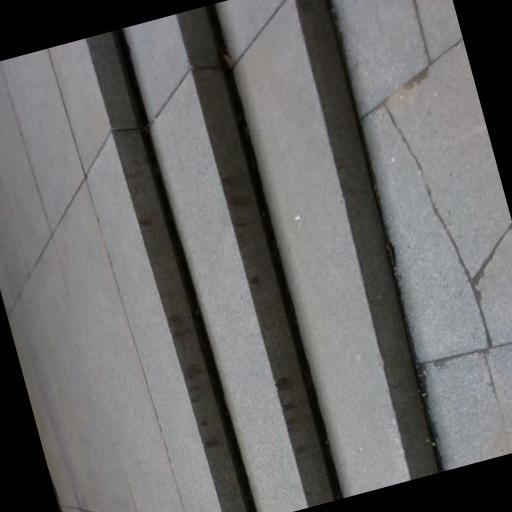stairs: (122, 0, 437, 511)
